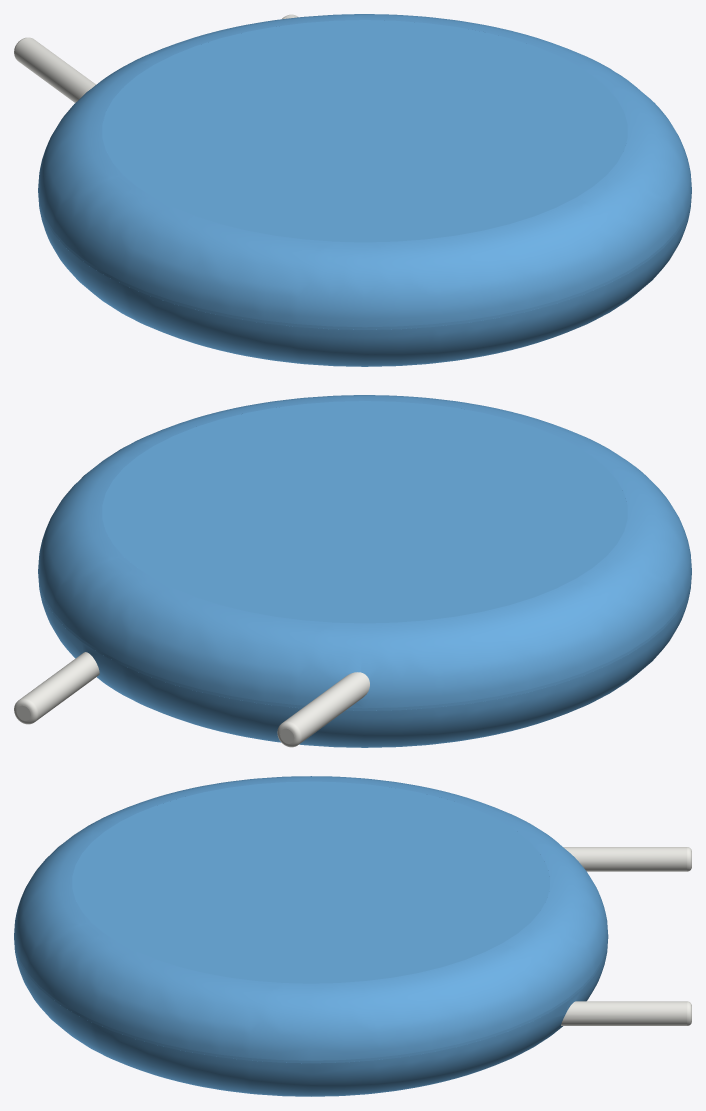
The model's file is RV_Disc_D21.5mm_W4.3mm_P10mm.glb.
3 views of the same model, one above another, from view 1: azimuth 30°, elevation 25°; view 2: azimuth 150°, elevation 25°; view 3: azimuth 270°, elevation 25° (orthographic). The views are drawn at different scales.
Parts seen in each view (by area): view 1: Shape_IndexedFaceSet.003, Shape_IndexedFaceSet.001, Shape_IndexedFaceSet.002, Shape_IndexedFaceSet, Shape_IndexedFaceSet.004; view 2: Shape_IndexedFaceSet.003, Shape_IndexedFaceSet.001, Shape_IndexedFaceSet.002, Shape_IndexedFaceSet.004, Shape_IndexedFaceSet, Shape_IndexedFaceSet.006; view 3: Shape_IndexedFaceSet.003, Shape_IndexedFaceSet.001, Shape_IndexedFaceSet.002, Shape_IndexedFaceSet.006, Shape_IndexedFaceSet.004, Shape_IndexedFaceSet.
Boxes of the visible parts, x1=… form: Shape_IndexedFaceSet.003: x1=102, y1=20, x2=627, y2=242; Shape_IndexedFaceSet.001: x1=38, y1=14, x2=691, y2=327; Shape_IndexedFaceSet.002: x1=38, y1=193, x2=691, y2=366; Shape_IndexedFaceSet: x1=38, y1=190, x2=691, y2=329; Shape_IndexedFaceSet.004: x1=14, y1=38, x2=95, y2=102; Shape_IndexedFaceSet.003: x1=102, y1=401, x2=627, y2=623; Shape_IndexedFaceSet.001: x1=38, y1=395, x2=691, y2=708; Shape_IndexedFaceSet.002: x1=38, y1=574, x2=691, y2=747; Shape_IndexedFaceSet.004: x1=283, y1=672, x2=369, y2=743; Shape_IndexedFaceSet: x1=38, y1=571, x2=691, y2=710; Shape_IndexedFaceSet.006: x1=20, y1=652, x2=99, y2=720; Shape_IndexedFaceSet.003: x1=72, y1=781, x2=549, y2=983; Shape_IndexedFaceSet.001: x1=14, y1=776, x2=608, y2=1060; Shape_IndexedFaceSet.002: x1=14, y1=938, x2=608, y2=1096; Shape_IndexedFaceSet.006: x1=561, y1=1001, x2=686, y2=1025; Shape_IndexedFaceSet.004: x1=563, y1=847, x2=686, y2=871; Shape_IndexedFaceSet: x1=14, y1=936, x2=608, y2=1063.
Bounding box in the file's own units: 8.47 × 1.69 × 9.66.
